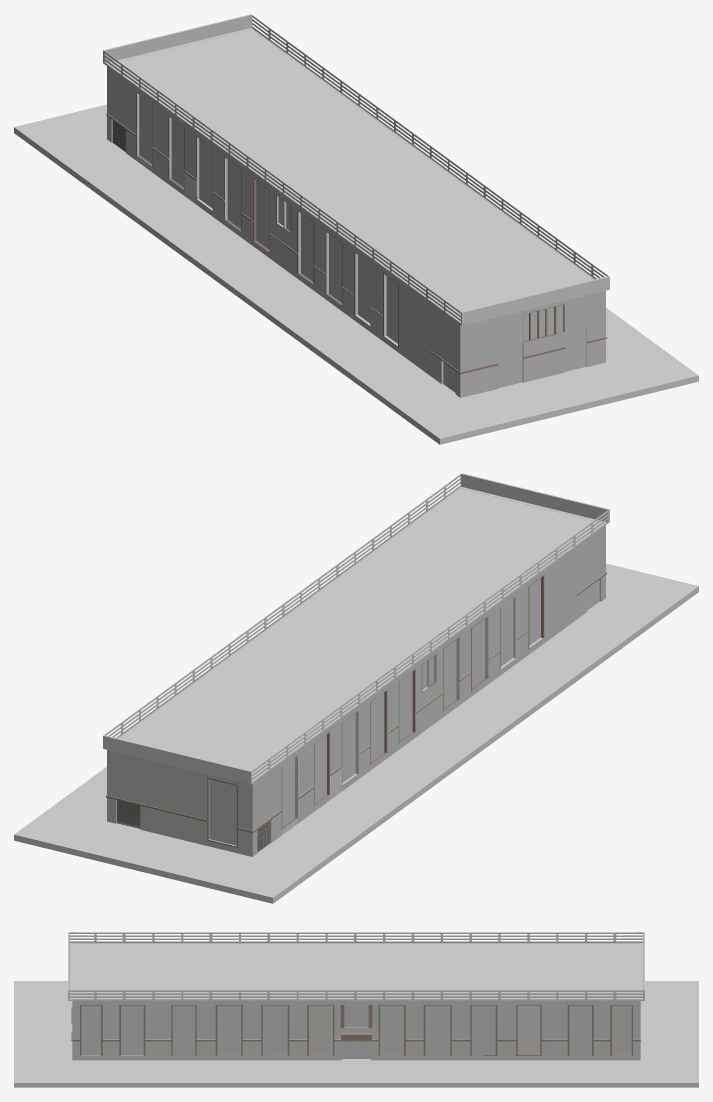
File: Build_Research (1).fbx
The picture shows the model from 3 angles, top to bottom: view 1: azimuth 30°, elevation 25°; view 2: azimuth 150°, elevation 25°; view 3: azimuth 270°, elevation 25°; orthographic projection. The views are drawn at different scales.
Parts seen in each view (by area): view 1: build; view 2: build; view 3: build.
Boxes of the visible parts, bbox=[...] form: build: bbox=[14, 14, 698, 444]; build: bbox=[14, 473, 698, 903]; build: bbox=[14, 932, 698, 1087].
Size of the model in its own units: 11530 by 4050 by 1402.
